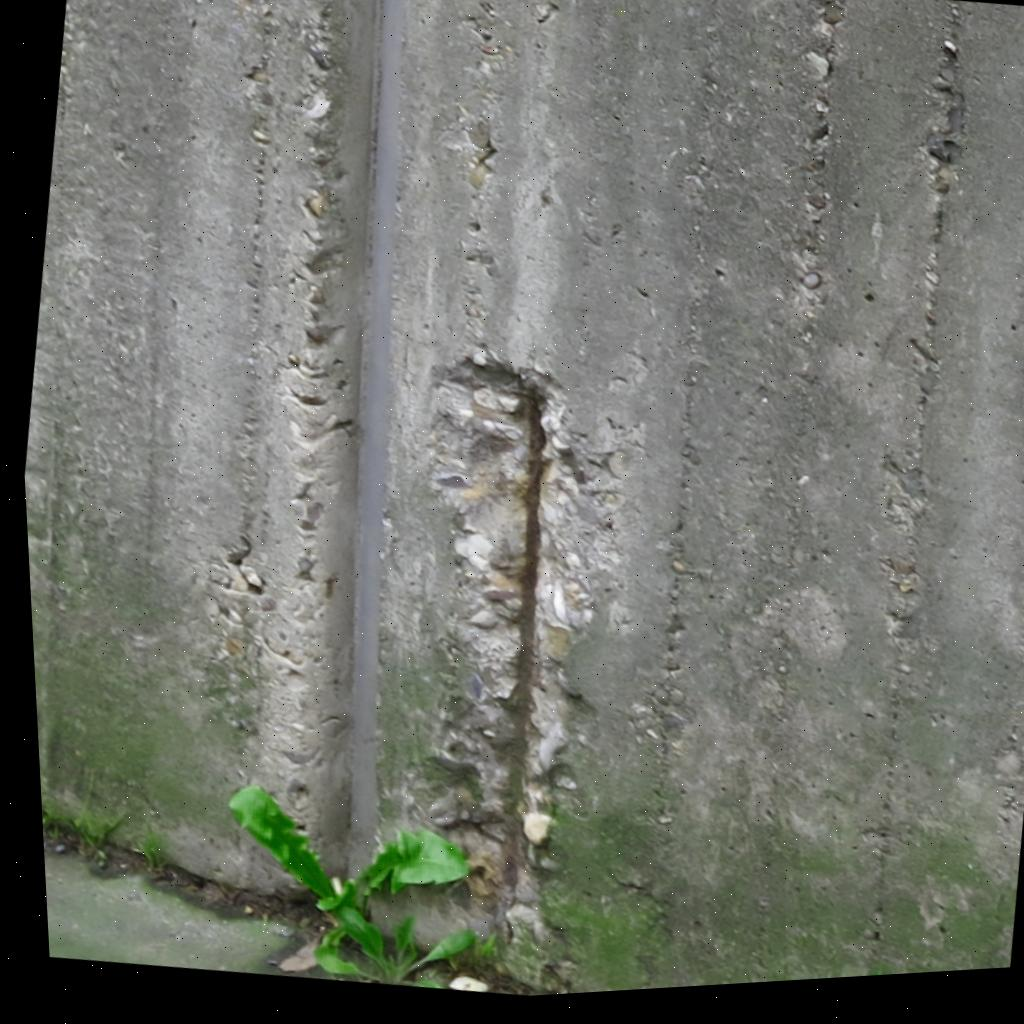exposed_rebar: (492, 386, 545, 914)
spalling: (400, 348, 629, 938)
